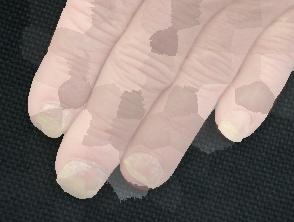Nail_psoriasis: (49, 151, 109, 209), (121, 140, 174, 196), (28, 98, 76, 146), (213, 105, 257, 148)
